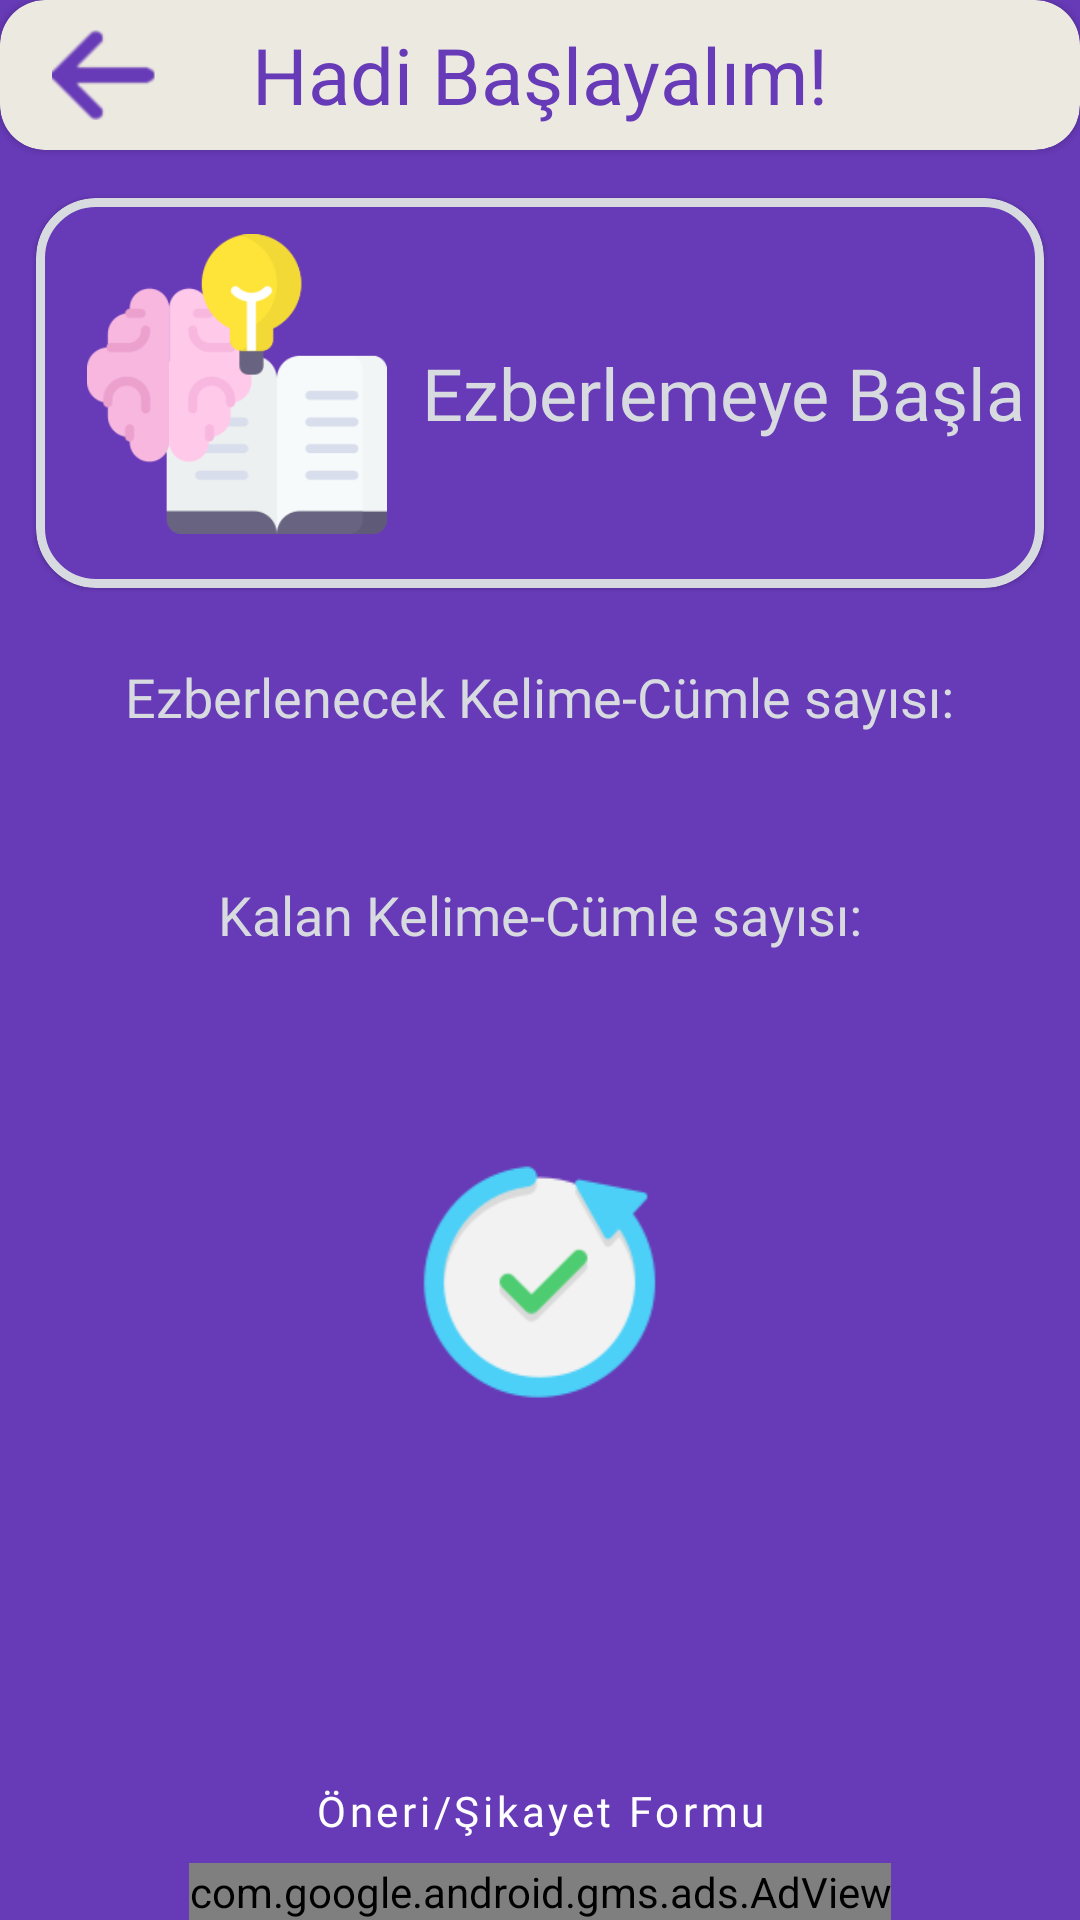

Where icons sit on this 1080 × 1920 app screen, as [left=x1, top=y1, right=x2, bottom=y2]:
leftarrow: [left=52, top=30, right=155, bottom=120]
repeat: [left=423, top=1166, right=656, bottom=1398]
